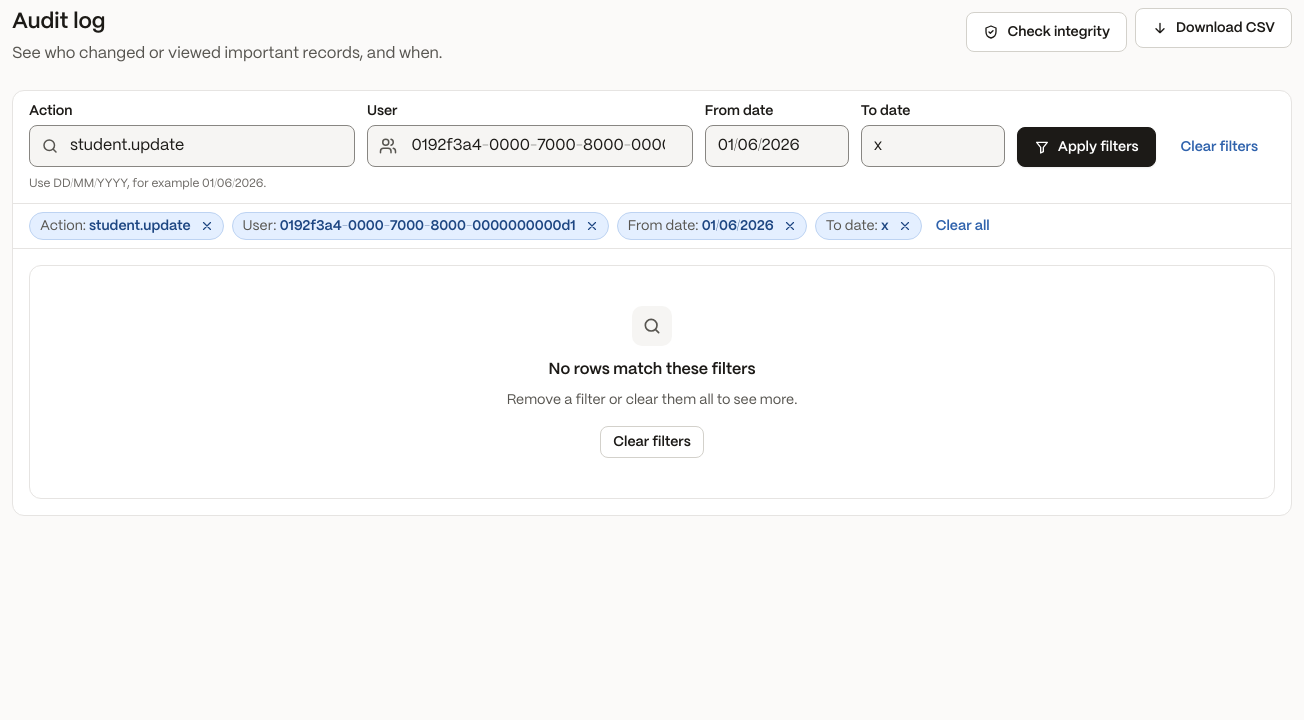
Test case: audit log CSV download (FR-AUD-005, US-1001, SEC-005) › downloads the events the current filters select, through the BFF
The width and height of the screenshot is (1304, 720).
Step 1. Click the button "Download CSV" → (1214, 28), box left=1135, top=8, right=1292, bottom=48
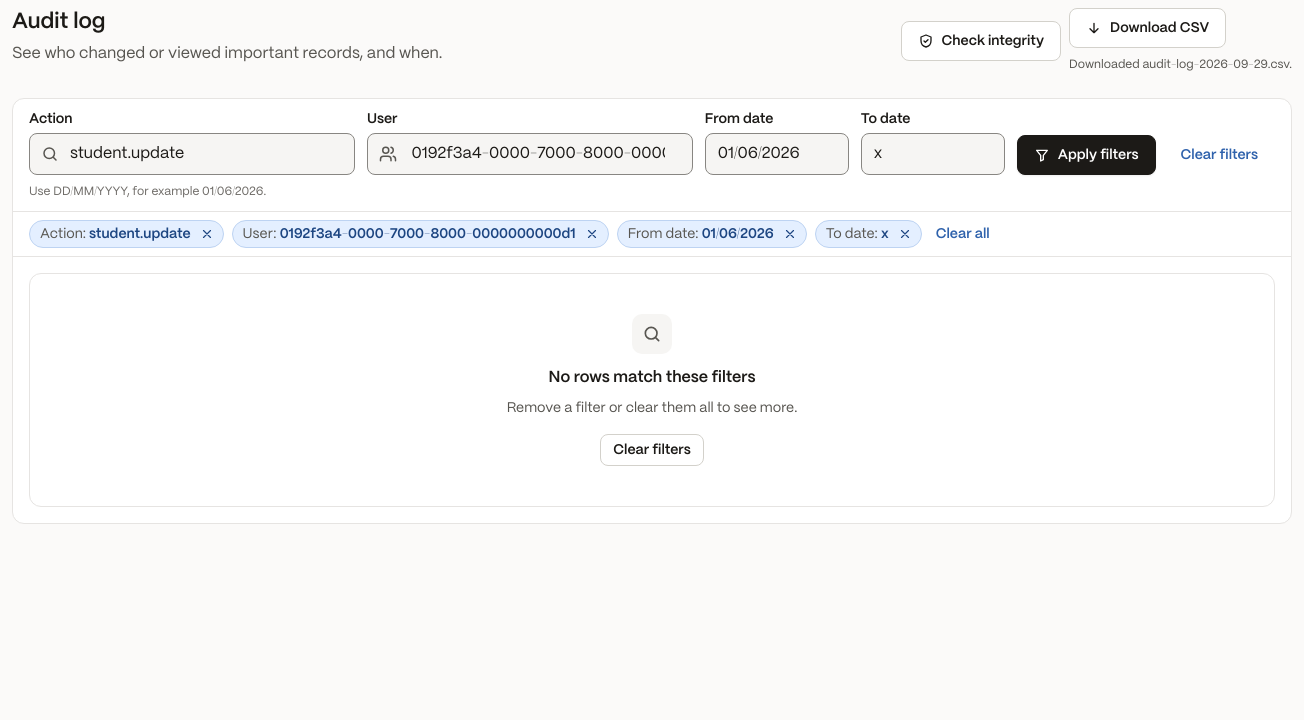
Expected: the text "0192f3a4-0000-7000-8000-0000000000d1" is shown, left=280, top=227, right=576, bottom=241
Expected: the text "Downloaded audit-log-2026-09-29.csv." is shown, left=1069, top=56, right=1292, bottom=74
